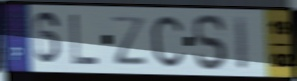6: (32, 10, 62, 68)
C: (150, 13, 186, 69)
I: (233, 14, 249, 73)
L: (69, 12, 101, 67)
S: (192, 12, 230, 73)
Z: (110, 15, 149, 67)
